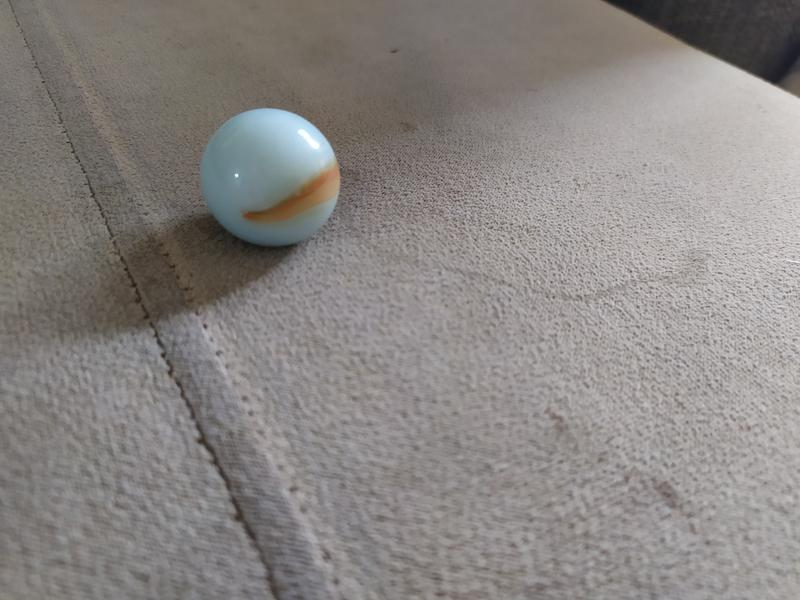Warning: (195, 105, 344, 251)
